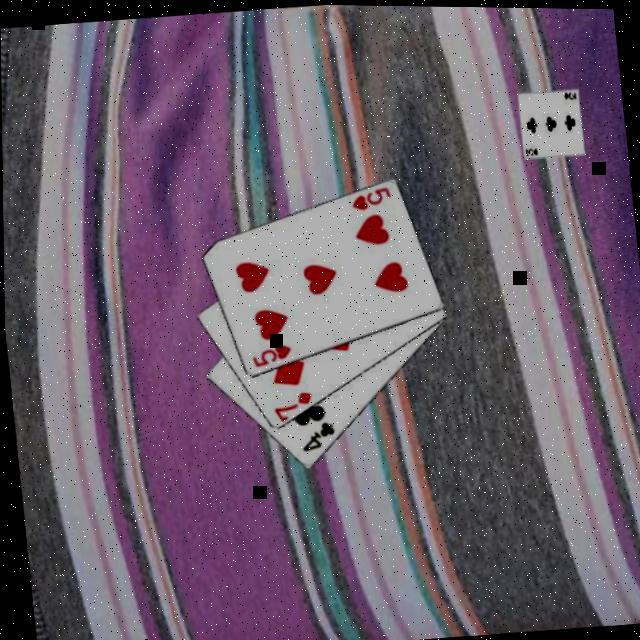4C: (296, 414, 338, 451)
5H: (347, 180, 395, 211), (248, 337, 295, 368)
7D: (269, 385, 316, 422)
